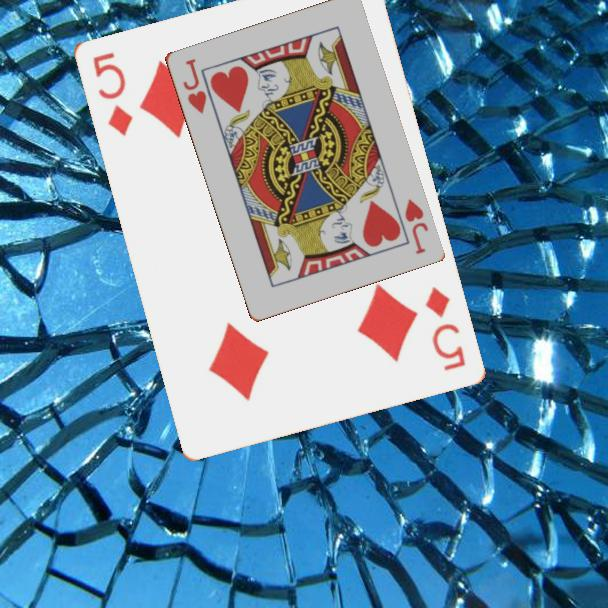d05: (421, 283, 468, 373), (89, 48, 135, 139)
h11: (178, 55, 209, 117), (401, 195, 431, 257)
